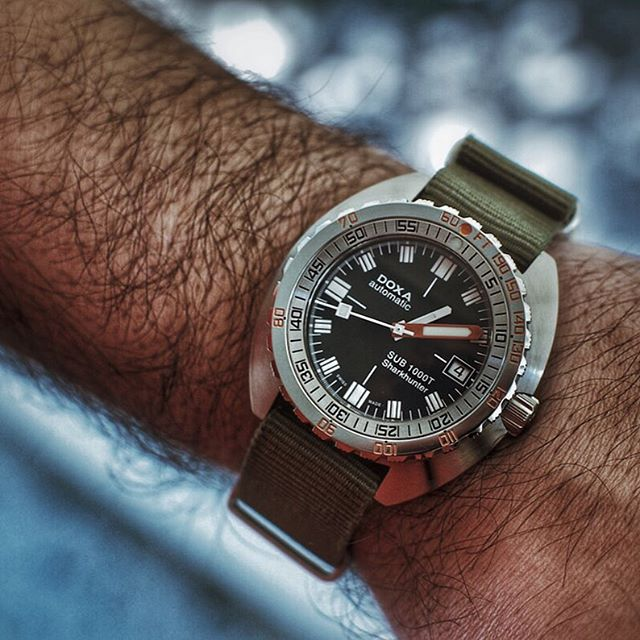clock: (308, 237, 497, 425)
